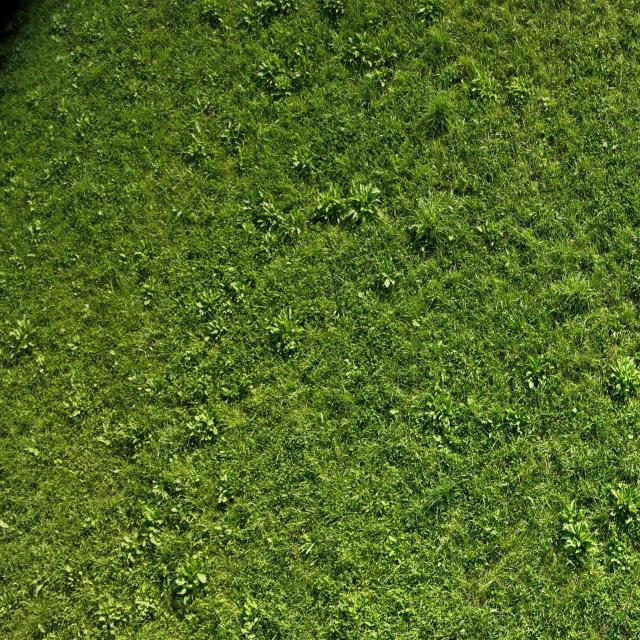rumex: (108, 14, 177, 91), (168, 363, 231, 432), (191, 279, 251, 347), (119, 360, 173, 431), (544, 268, 600, 320), (60, 161, 108, 219), (418, 383, 462, 445), (331, 588, 386, 637), (423, 22, 467, 78), (59, 15, 98, 74), (93, 590, 140, 635), (367, 514, 408, 565), (114, 408, 158, 454), (212, 110, 250, 160), (419, 94, 460, 138), (346, 180, 384, 227), (181, 120, 217, 166), (61, 379, 94, 425), (235, 593, 268, 637), (608, 354, 640, 399), (466, 65, 501, 106), (609, 481, 640, 526), (313, 183, 347, 224), (136, 503, 168, 545), (286, 31, 314, 78), (55, 92, 87, 133), (88, 410, 119, 452), (522, 352, 554, 392), (375, 253, 403, 290), (44, 145, 74, 179), (345, 34, 373, 68), (475, 217, 505, 248), (506, 74, 536, 105), (198, 1, 231, 29), (502, 404, 529, 438), (194, 287, 222, 319), (292, 144, 318, 178), (121, 76, 149, 106), (72, 102, 95, 138), (258, 200, 286, 227), (28, 568, 50, 599), (317, 1, 348, 23), (411, 1, 438, 26), (406, 221, 430, 249), (252, 1, 278, 25), (138, 281, 158, 310), (49, 12, 68, 39), (96, 598, 115, 623), (64, 331, 84, 354), (25, 84, 43, 109), (27, 218, 43, 244), (617, 354, 637, 374), (141, 507, 161, 526), (206, 320, 224, 340), (346, 187, 364, 206), (183, 142, 202, 159), (133, 594, 153, 610), (563, 497, 577, 519), (372, 66, 390, 82), (564, 536, 582, 552), (79, 301, 92, 323), (217, 470, 230, 490), (583, 539, 599, 555), (171, 577, 187, 593), (266, 224, 280, 242), (185, 566, 199, 584), (109, 276, 120, 297), (16, 318, 29, 335), (284, 338, 298, 353), (175, 564, 188, 580), (282, 306, 294, 323), (228, 281, 243, 294), (368, 44, 383, 57), (8, 332, 21, 347), (357, 182, 369, 198), (23, 446, 40, 457), (302, 543, 316, 556), (576, 529, 590, 542), (68, 50, 80, 65), (382, 254, 392, 272), (197, 91, 208, 107), (610, 556, 620, 573), (269, 329, 282, 342), (35, 354, 46, 369), (60, 96, 69, 114), (254, 68, 270, 78), (120, 535, 133, 547), (218, 490, 229, 504), (8, 174, 18, 189), (249, 190, 261, 202), (368, 185, 381, 196), (37, 623, 48, 636), (257, 62, 271, 72), (51, 13, 62, 25), (354, 211, 364, 224), (43, 166, 52, 180), (190, 132, 201, 143), (318, 411, 326, 426), (212, 524, 224, 534), (190, 578, 199, 591), (328, 182, 336, 196), (388, 408, 399, 418), (242, 16, 253, 26), (527, 377, 535, 390), (54, 54, 64, 64), (189, 158, 199, 168), (0, 518, 9, 529), (413, 411, 427, 418), (194, 122, 202, 134), (448, 232, 457, 242), (411, 319, 421, 328), (219, 132, 229, 141), (64, 564, 73, 574), (417, 6, 426, 15), (82, 303, 90, 313), (357, 291, 365, 301), (294, 48, 302, 58), (34, 219, 42, 229), (292, 72, 302, 80), (21, 342, 29, 352), (388, 51, 398, 59), (108, 349, 116, 358), (475, 225, 484, 233), (203, 335, 211, 344), (195, 301, 204, 309), (63, 4, 71, 13), (295, 227, 302, 237), (118, 252, 127, 259), (143, 298, 150, 306), (601, 141, 608, 149), (627, 433, 634, 441), (71, 82, 78, 89), (572, 406, 578, 414)
